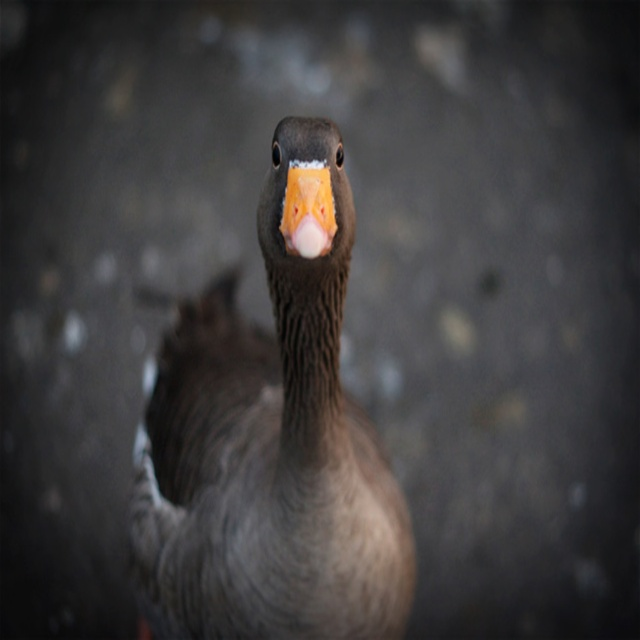Duck: (117, 116, 431, 634)
